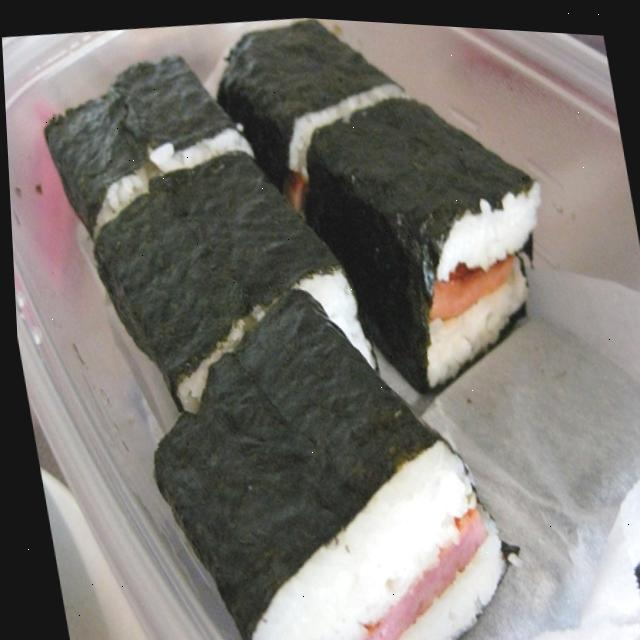寿司卷物: (38, 2, 603, 640)
